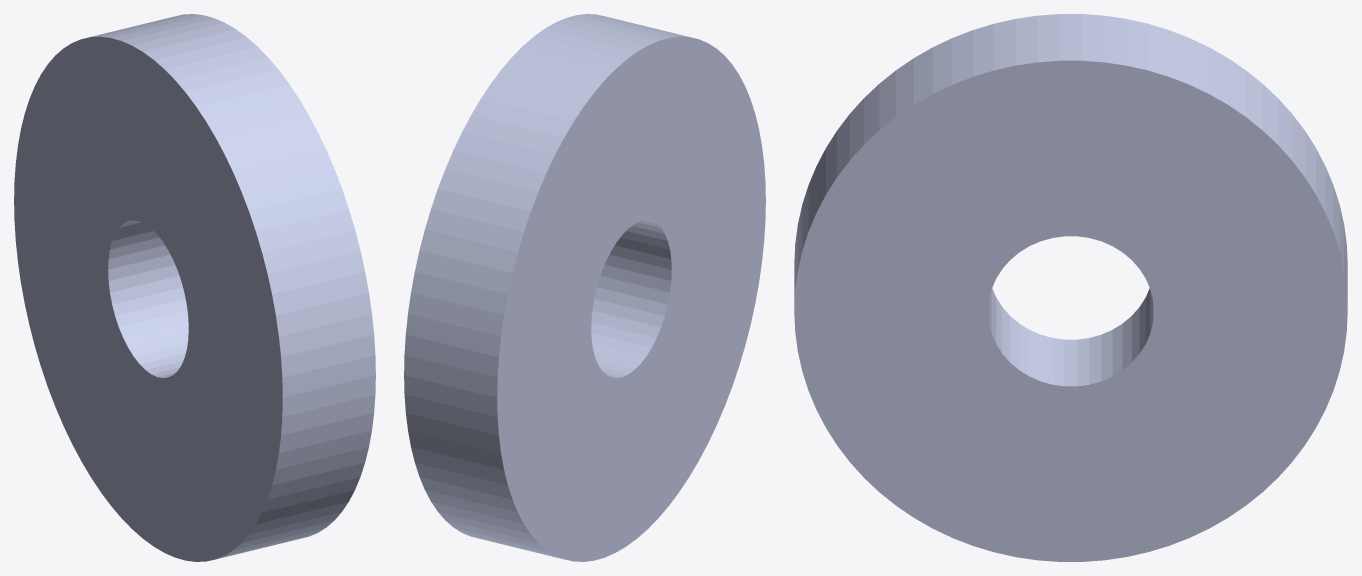
File: Rueda_ResorteV1.0.dae
The picture shows the model from 3 angles, left to right: view 1: azimuth 30°, elevation 25°; view 2: azimuth 150°, elevation 25°; view 3: azimuth 270°, elevation 25°; orthographic projection. The views are drawn at different scales.
Parts seen in each view (by area): view 1: ID2; view 2: ID2; view 3: ID2.
Boxes of the visible parts, box(x1,y1,x2,y2) form: ID2: box(14, 14, 375, 561); ID2: box(404, 14, 765, 561); ID2: box(794, 14, 1347, 561).
Bounding box in the file's own units: 0.01 × 0.05 × 0.05.
